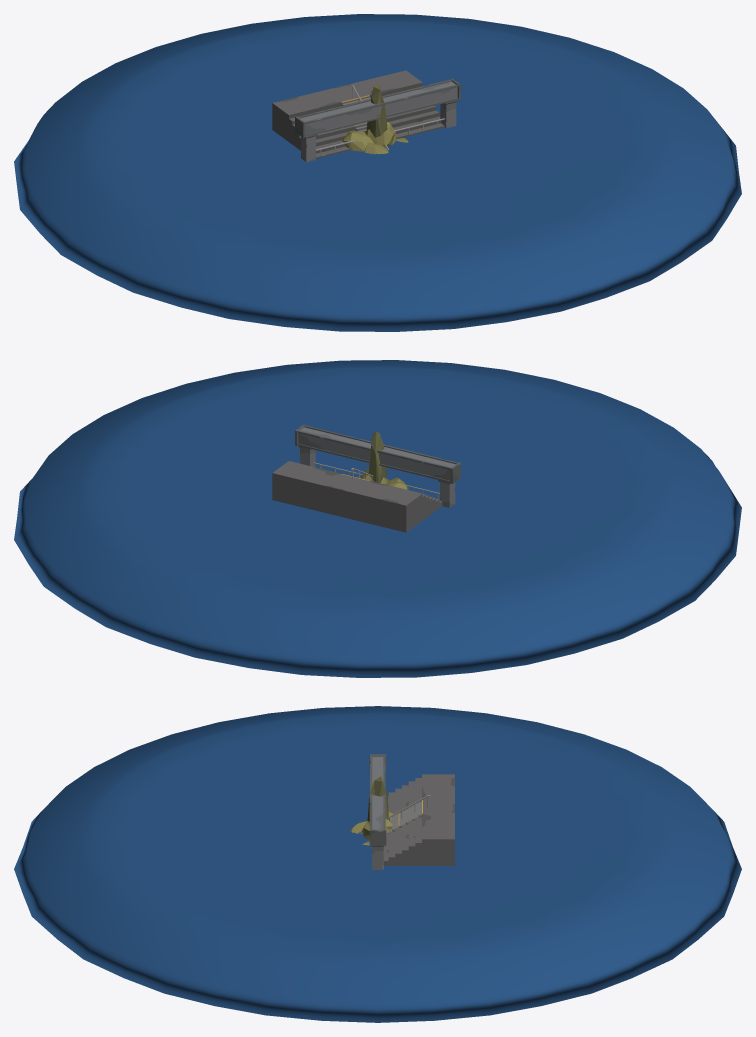
Rendered from kit.glb.
The picture shows the model from 3 angles, top to bottom: view 1: azimuth 30°, elevation 25°; view 2: azimuth 150°, elevation 25°; view 3: azimuth 270°, elevation 25°; orthographic projection.
Visible parts, largest first — view 1: Env_RoadEdge_Green_01, Bld_Grandstand_01, Prop_Gantry_01, Env_Tree_01, Env_Tree_Thin_01; view 2: Env_RoadEdge_Green_01, Bld_Grandstand_01, Prop_Gantry_01, Env_Tree_Thin_01; view 3: Env_RoadEdge_Green_01, Bld_Grandstand_01, Prop_Gantry_01.
Part boxes in pixels (bbox=[...]): Env_RoadEdge_Green_01: bbox=[14, 14, 741, 331]; Bld_Grandstand_01: bbox=[272, 70, 444, 158]; Prop_Gantry_01: bbox=[295, 78, 460, 162]; Env_Tree_01: bbox=[342, 122, 408, 154]; Env_Tree_Thin_01: bbox=[366, 83, 387, 137]; Env_RoadEdge_Green_01: bbox=[14, 360, 741, 677]; Bld_Grandstand_01: bbox=[272, 461, 442, 532]; Prop_Gantry_01: bbox=[295, 424, 460, 507]; Env_Tree_Thin_01: bbox=[368, 431, 386, 482]; Env_RoadEdge_Green_01: bbox=[14, 706, 741, 1022]; Bld_Grandstand_01: bbox=[356, 774, 454, 865]; Prop_Gantry_01: bbox=[369, 754, 386, 869].
Size of the model in its own units: 53.13 by 7.84 by 53.13.
2 materials, 2 textured.
